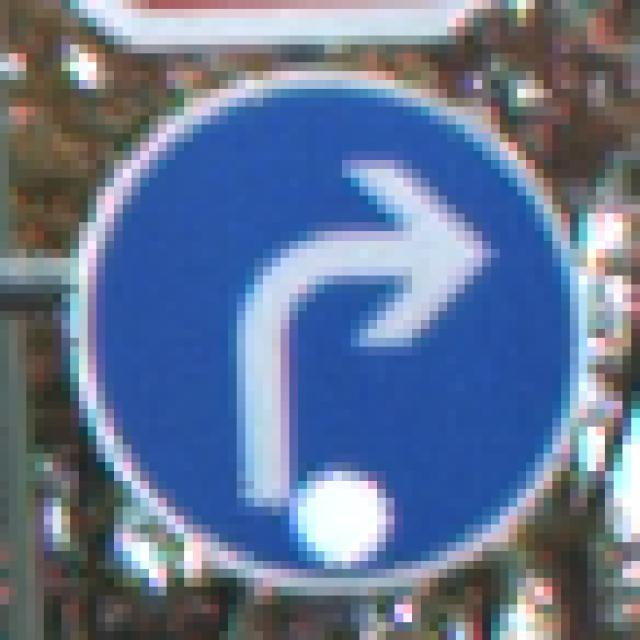compulsary turn right ahead: (61, 52, 599, 598)
